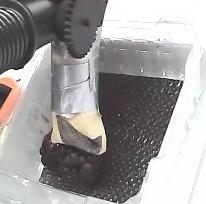berry: (56, 144, 104, 185), (40, 132, 59, 171)
